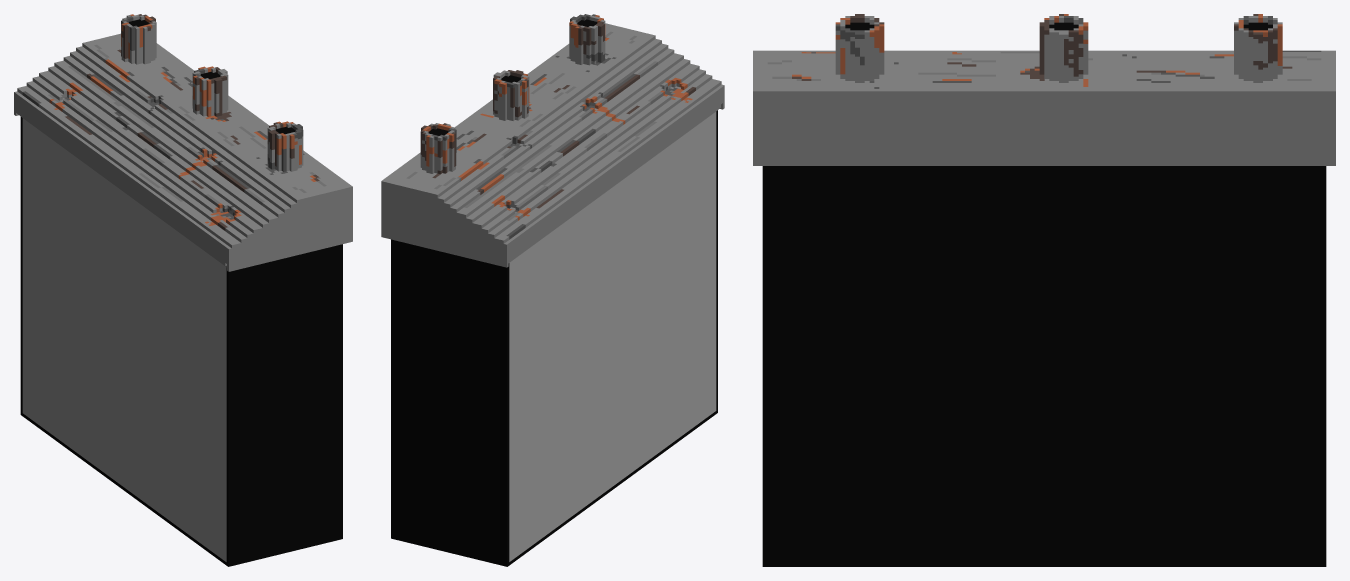
File: Telhado_01b.obj
The picture shows the model from 3 angles, left to right: view 1: azimuth 30°, elevation 25°; view 2: azimuth 150°, elevation 25°; view 3: azimuth 270°, elevation 25°; orthographic projection. The views are drawn at different scales.
Size of the model in its own units: 40 by 120 by 120.
Materials: 1 (1 with a texture image).
